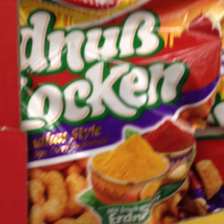chips: (18, 1, 223, 224)
